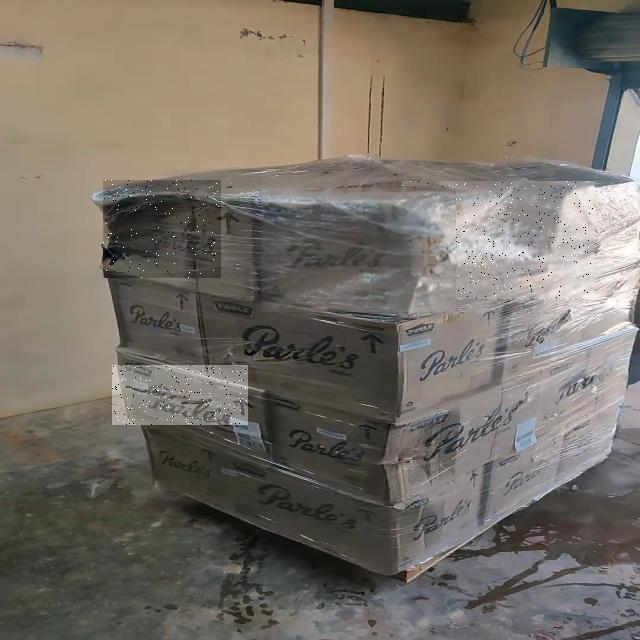squeeze: (261, 188, 456, 312), (402, 181, 593, 298), (103, 180, 219, 278)
tear: (112, 365, 247, 425)
